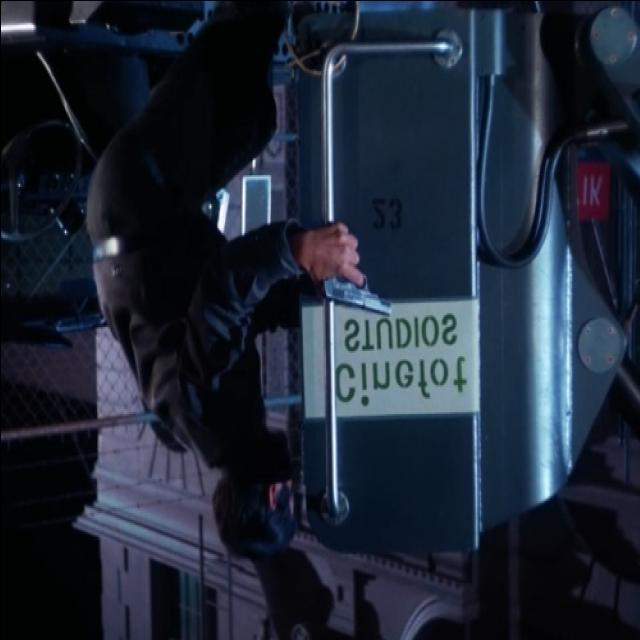weapons: (298, 210, 404, 338)
